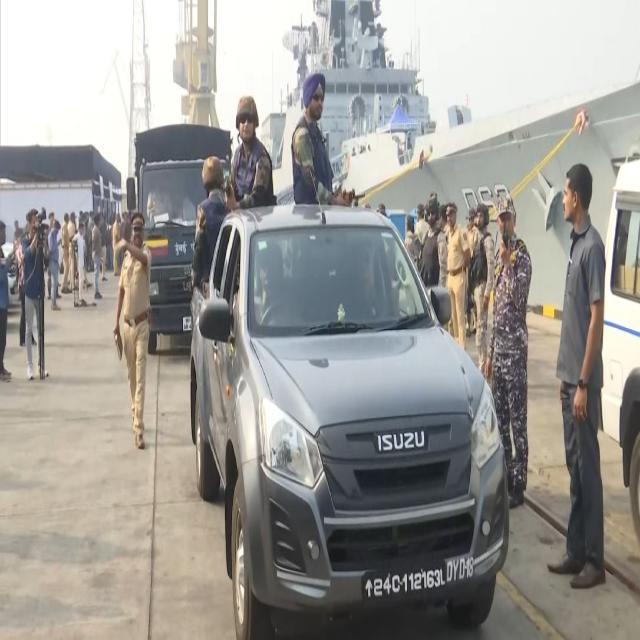plate: (359, 559, 446, 607)
